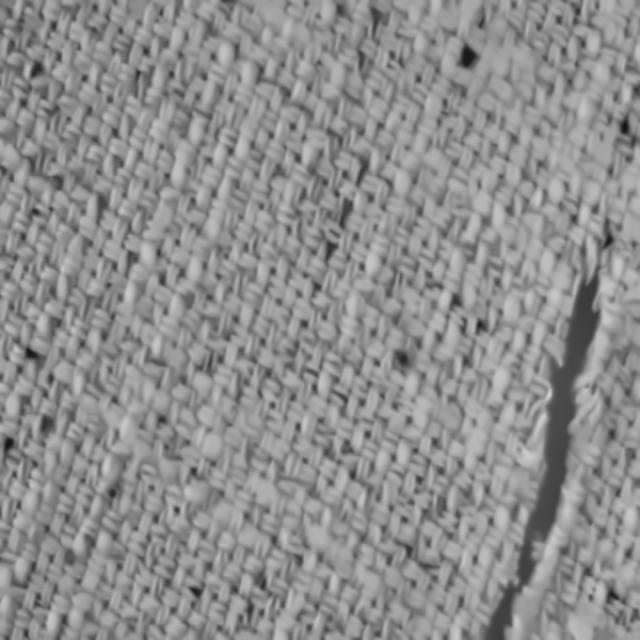seam: (418, 26, 502, 118), (363, 318, 426, 396)
